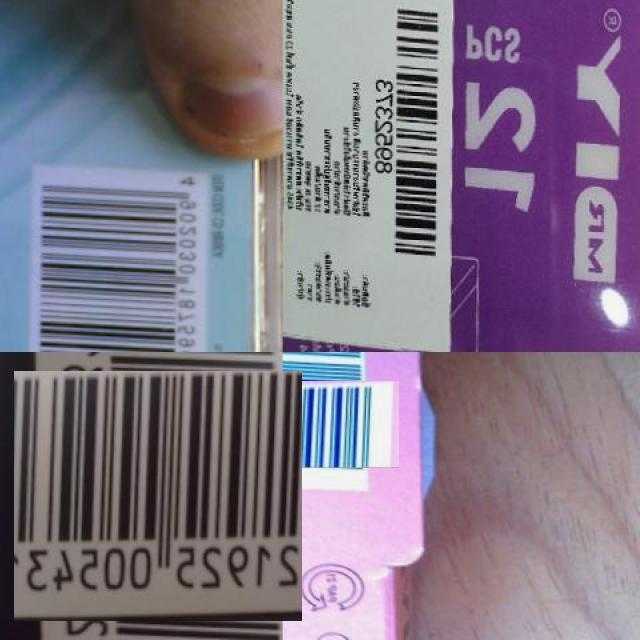Barcode: (23, 361, 292, 631), (32, 171, 209, 352), (372, 0, 449, 287), (268, 366, 385, 483)
